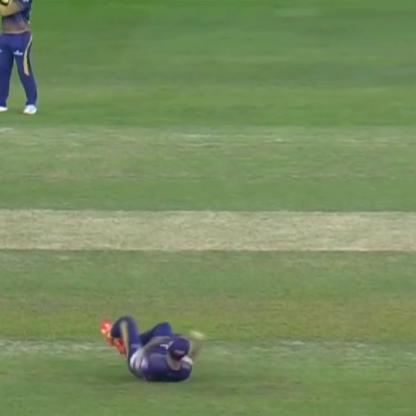ball: (187, 326, 205, 340)
